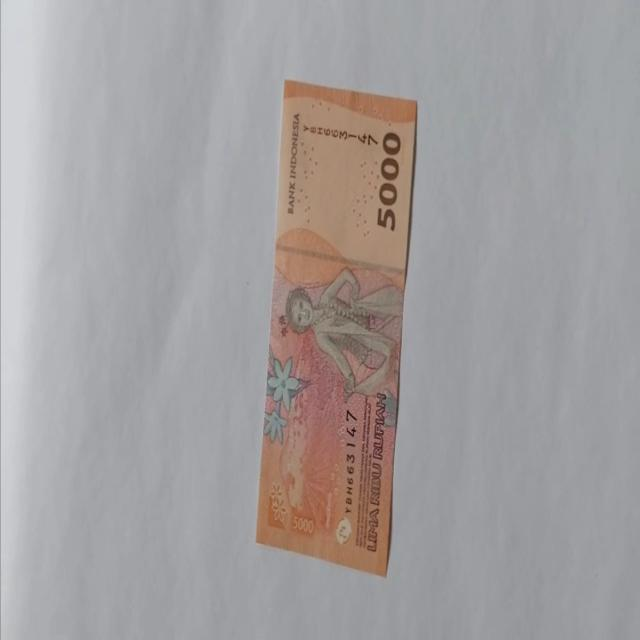lima ribu rupiah: (254, 77, 418, 577)
